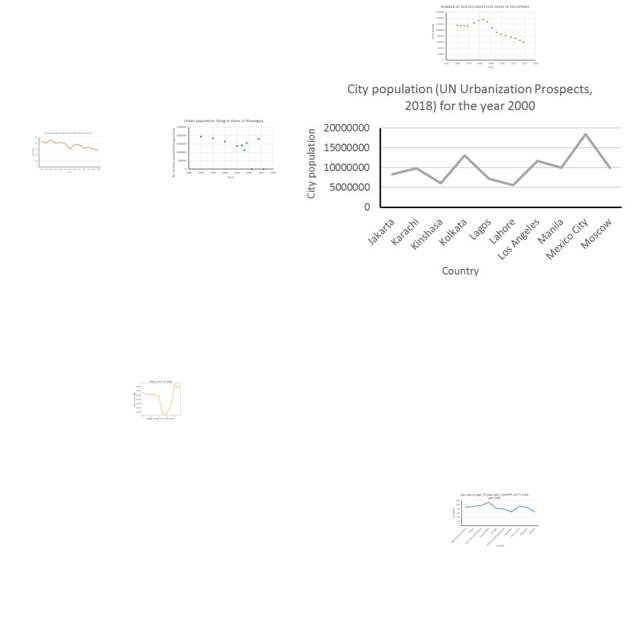Graph: (298, 77, 630, 280), (429, 3, 541, 72), (169, 117, 277, 180), (449, 492, 540, 547), (30, 131, 102, 174), (132, 378, 188, 420)
